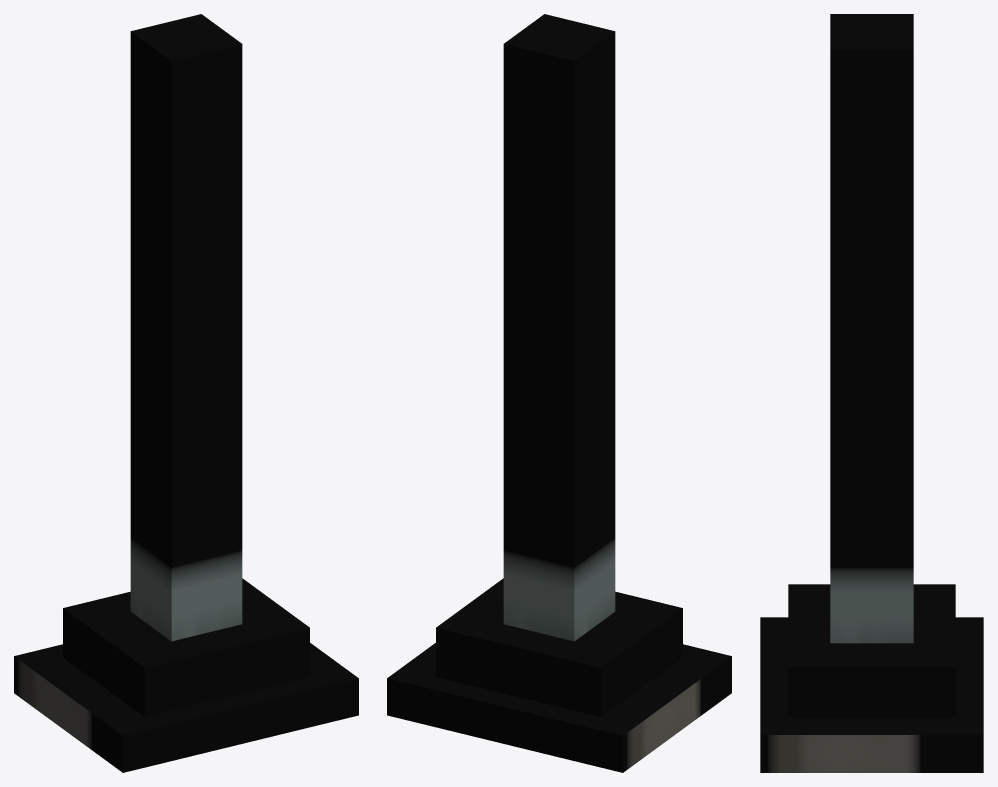
The model's file is ram.obj.
3 views of the same model, side by side, from view 1: azimuth 30°, elevation 25°; view 2: azimuth 150°, elevation 25°; view 3: azimuth 270°, elevation 25° (orthographic). The views are drawn at different scales.
Parts seen in each view (by area): view 1: ram; view 2: ram; view 3: ram.
Boxes of the visible parts, x1,y1,x2,y2 form: ram: [14, 14, 358, 772]; ram: [387, 14, 731, 772]; ram: [760, 14, 983, 772].
Bounding box in the file's own units: 1.25 × 3.38 × 1.
